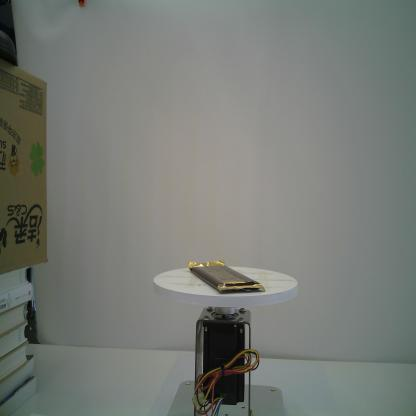Chocolate: (187, 257, 266, 294)
